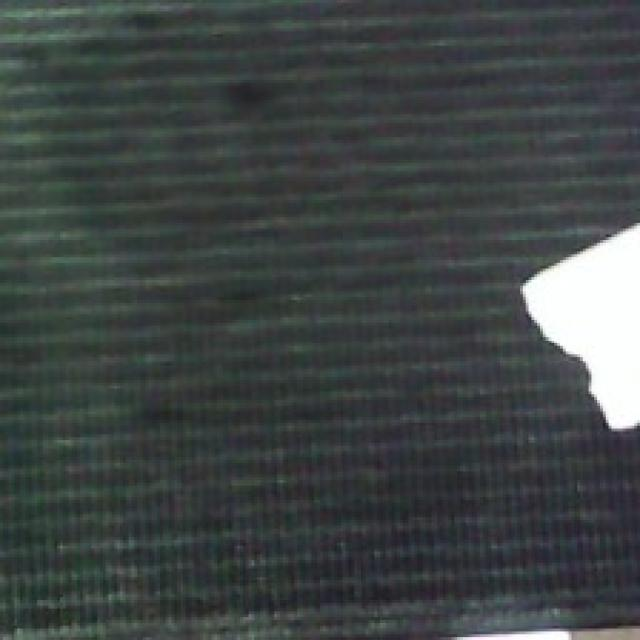defected: (514, 216, 640, 448)
